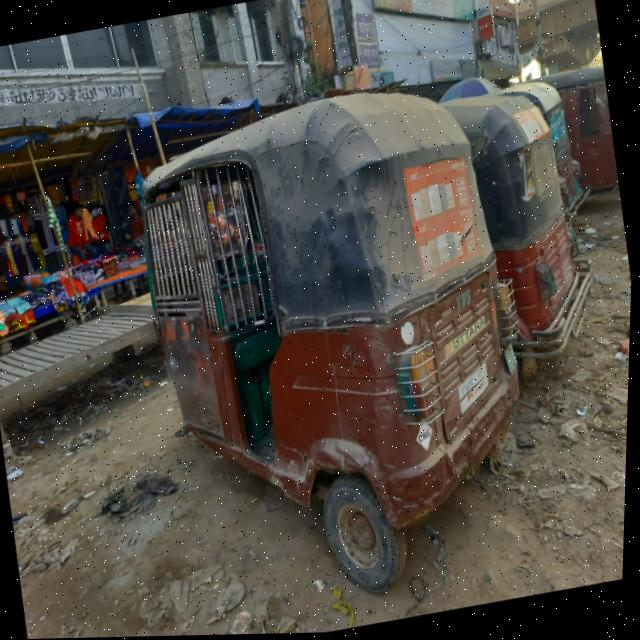cng: (113, 82, 547, 610)
